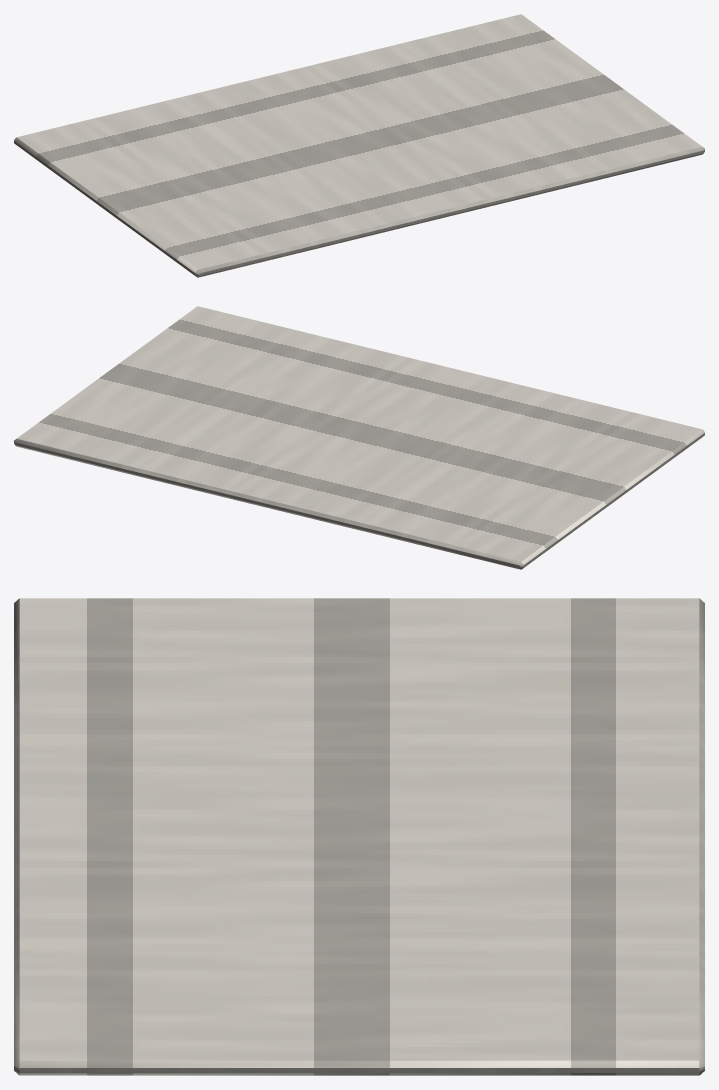
File: bath_mat.glb
The picture shows the model from 3 angles, top to bottom: view 1: azimuth 30°, elevation 25°; view 2: azimuth 150°, elevation 25°; view 3: azimuth 270°, elevation 25°; orthographic projection. The views are drawn at different scales.
Visible parts, largest first — view 1: body; view 2: body; view 3: body.
Part boxes in pixels (x1,y1,x2,y2): body: (14, 14, 704, 277); body: (14, 306, 704, 569); body: (14, 598, 704, 1075).
Bounding box in the file's own units: 0.8 × 0.012 × 0.5.
1 material, 1 textured.
